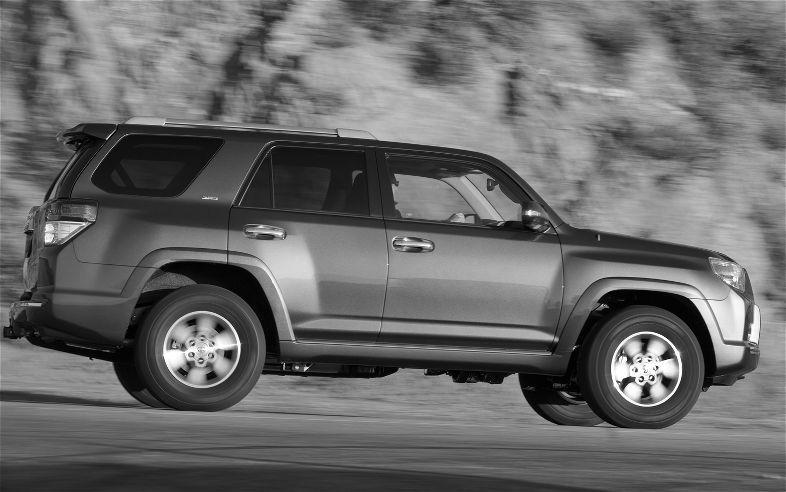car: (9, 107, 770, 434)
